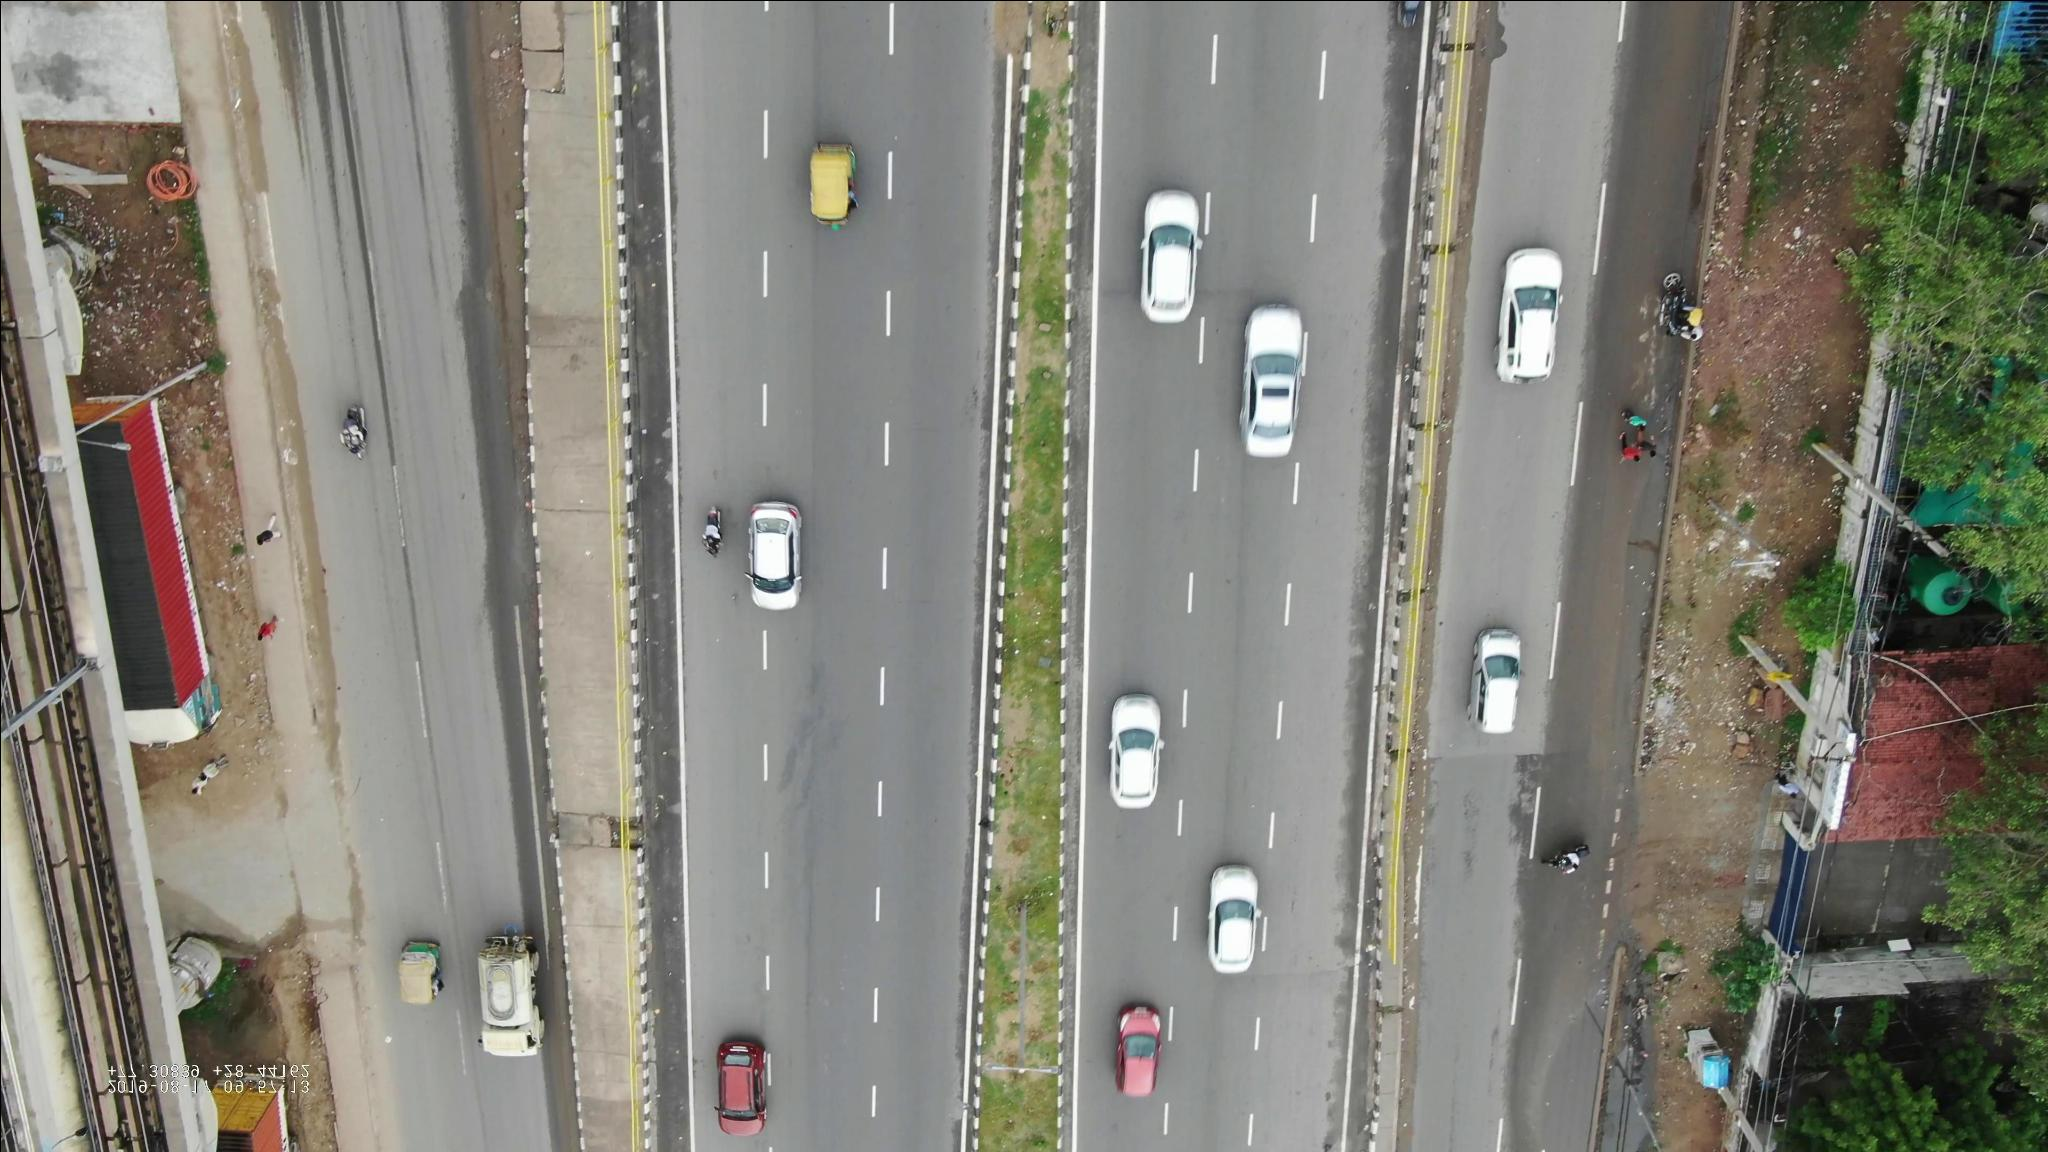Muddy_road: (478, 3, 532, 179)
Waterlogging: (1568, 498, 1677, 719), (1519, 954, 1609, 1142)
